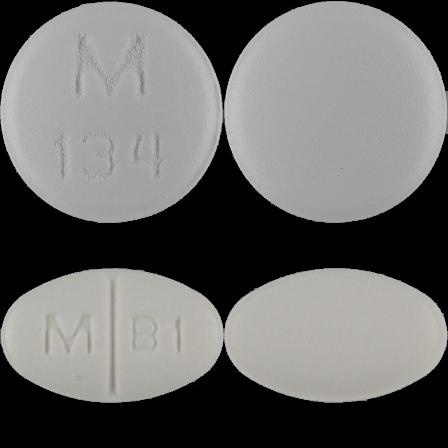0378-1134: (0, 0, 224, 224)
